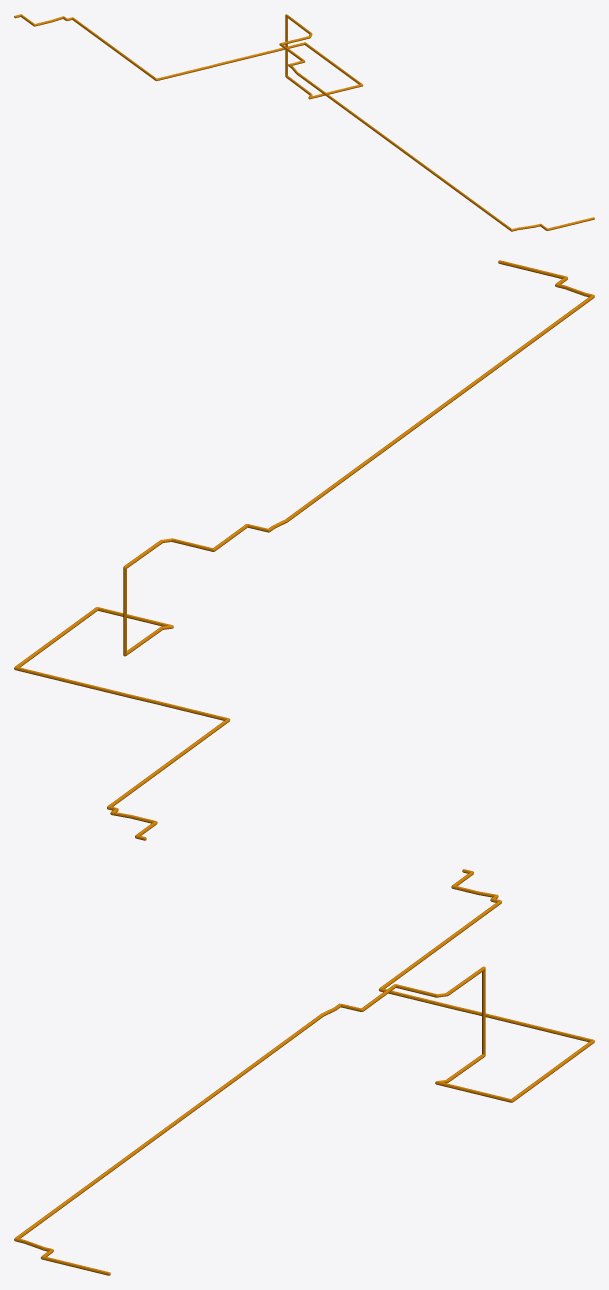
The picture shows the model from 3 angles, top to bottom: view 1: azimuth 30°, elevation 25°; view 2: azimuth 150°, elevation 25°; view 3: azimuth 330°, elevation 25°; orthographic projection. The views are drawn at different scales.
Size of the model in its own units: 1655 by 520 by 6182.
